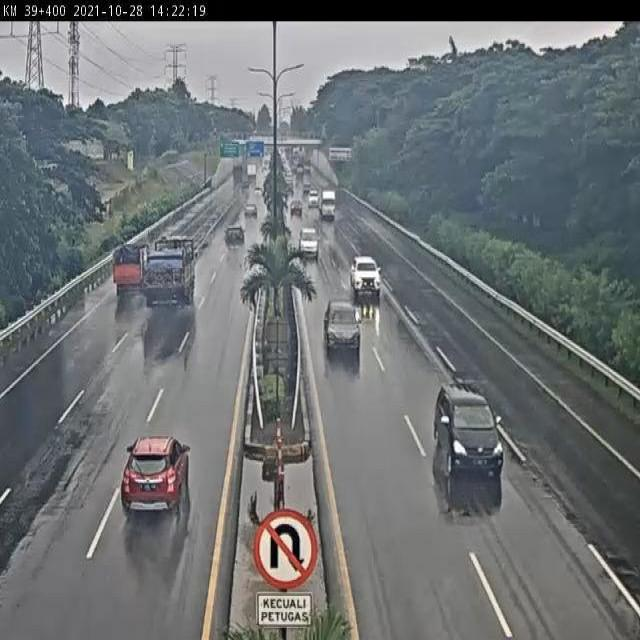car: (433, 376, 506, 481), (119, 436, 191, 513), (323, 302, 362, 354)
small truck: (110, 241, 151, 295)
truck-l-: (140, 234, 196, 306)
truck-s-: (317, 187, 338, 220)
